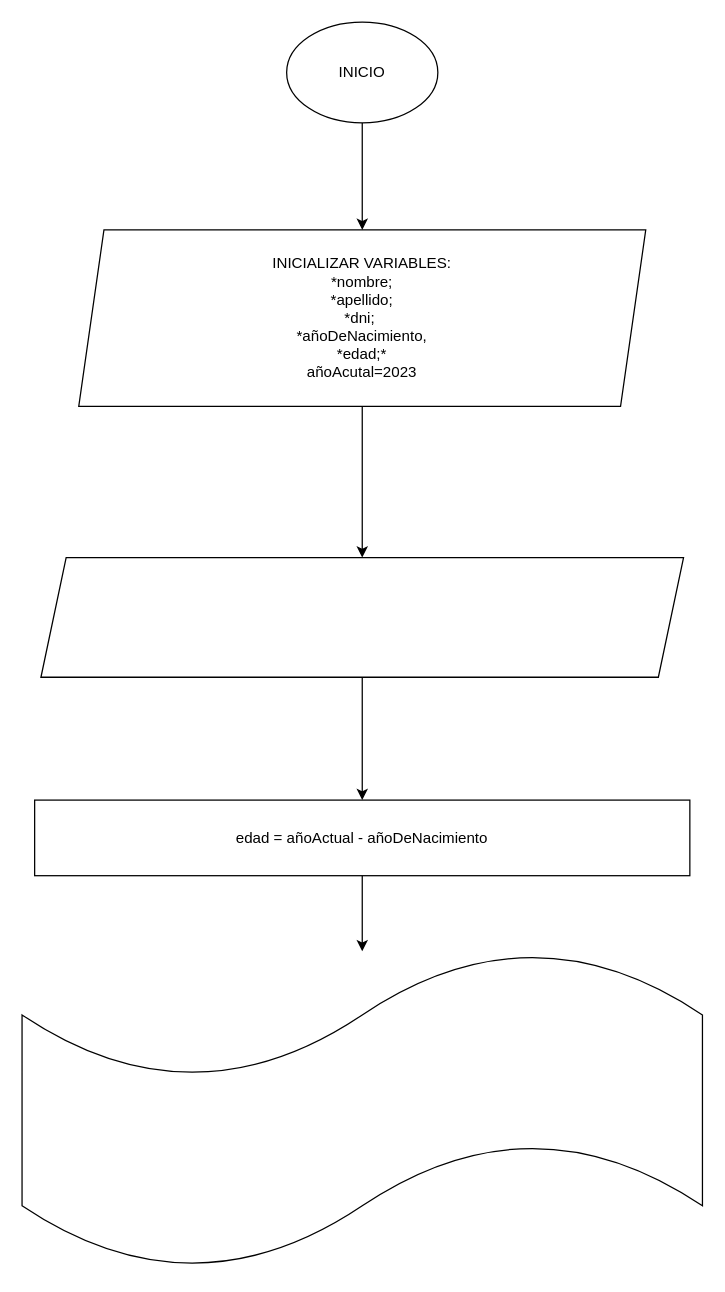
Some shapes in this 725 by 1292 pixel diagram are drawn without their labels. Each missing label, with the box of its shape:
PRINT: "Hola nombre apellido. Tu dni es dni y tu edad es edad: (21, 950, 702, 1269)
SOLICITAR y DEFINIR nombre, apellido, dni, añoDeNacimiento: (40, 556, 684, 677)
